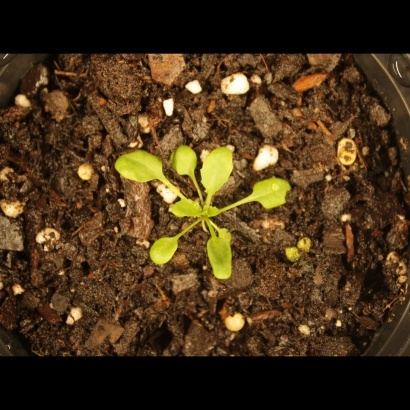leaf: (112, 148, 170, 190), (198, 142, 238, 200), (201, 235, 242, 290), (245, 176, 299, 216), (144, 229, 183, 273), (166, 195, 206, 225), (169, 146, 200, 184), (217, 222, 240, 245)
